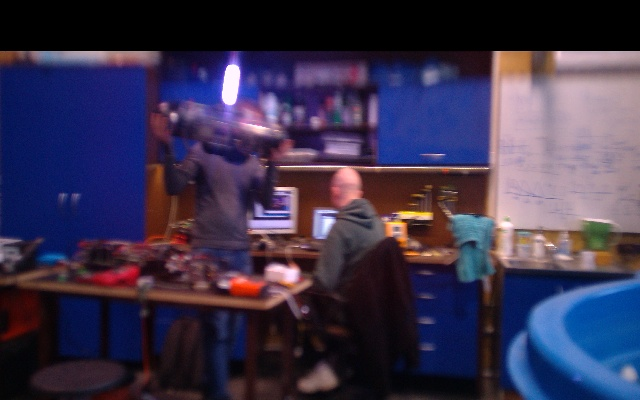white: (222, 64, 240, 107)
